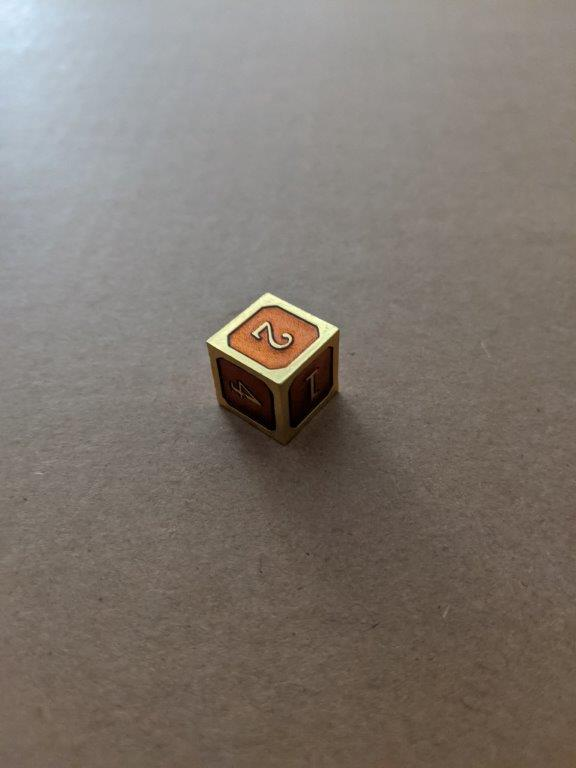d6-2: (205, 292, 341, 445)
